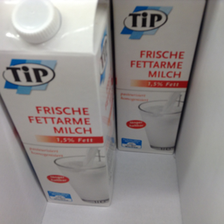milk: (2, 1, 115, 209), (111, 1, 206, 155)
